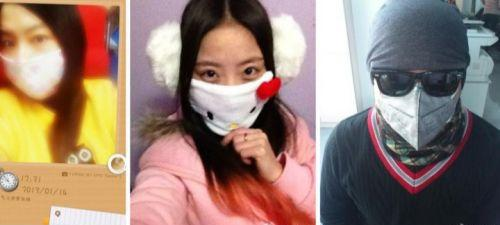OK: (192, 53, 276, 137), (1, 29, 67, 99)
